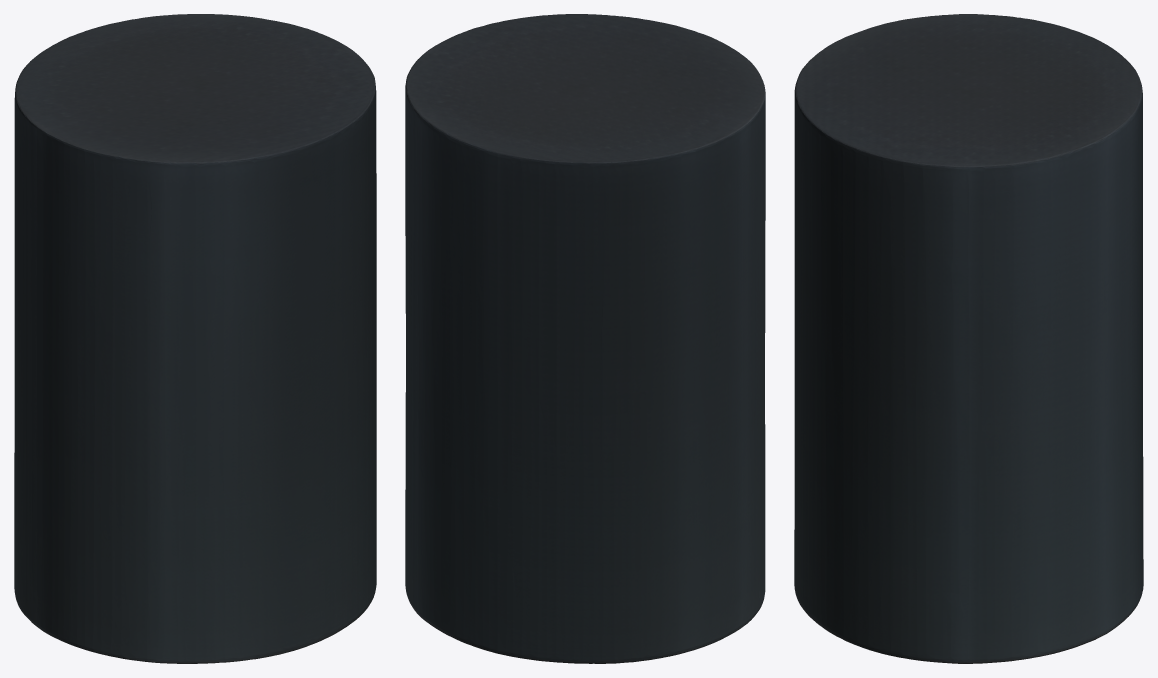
Rendered from peg_cad_scaled.glb.
3 renders of one model, left to right at view 1: azimuth 30°, elevation 25°; view 2: azimuth 150°, elevation 25°; view 3: azimuth 270°, elevation 25°, orthographic.
Parts seen in each view (by area): view 1: world; view 2: world; view 3: world.
Part boxes in pixels (x1,y1,x2,y2): world: (14, 14, 376, 663); world: (405, 14, 765, 663); world: (794, 14, 1143, 663).
Bounding box in the file's own units: 0.0292 × 0.0443 × 0.0282.
1 material, 1 textured.
